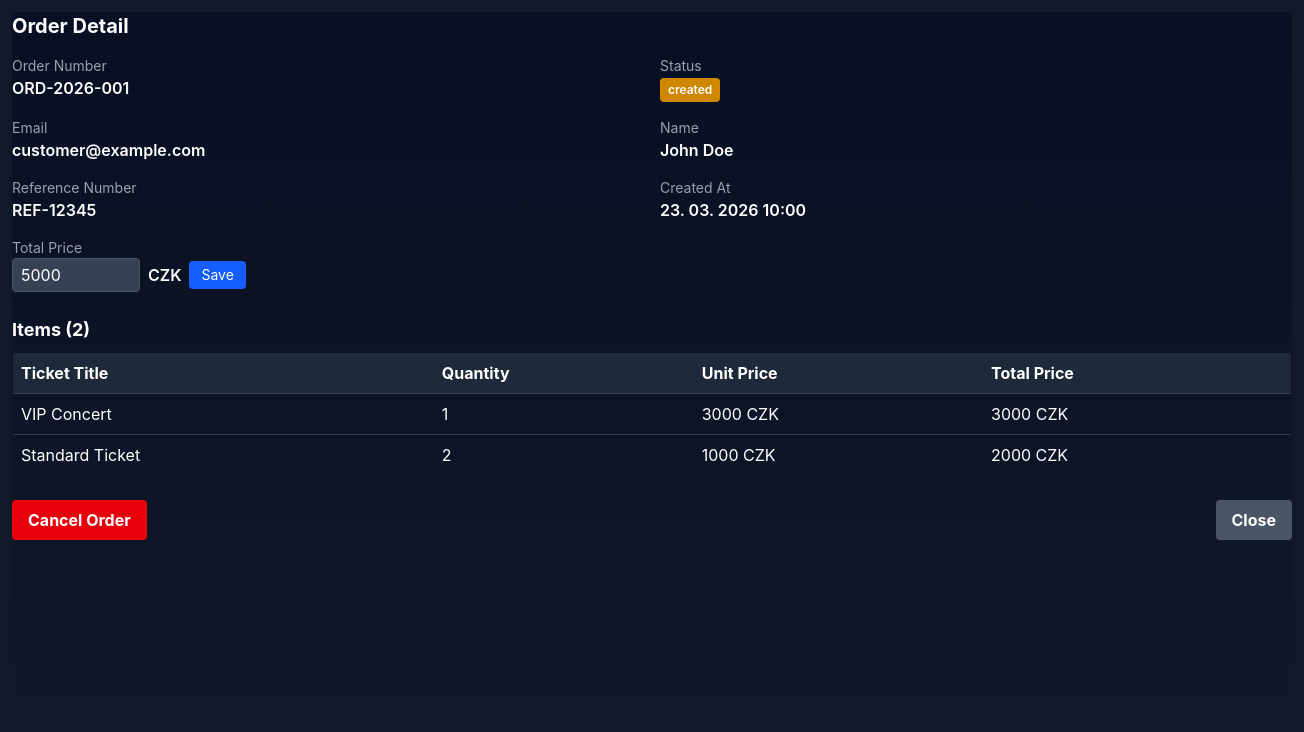
Test case: OrderDetail › displays error message when cancelOrder fails
Click the button "Cancel Order" at (79, 520), box x1=12 y1=500 x2=147 y2=540
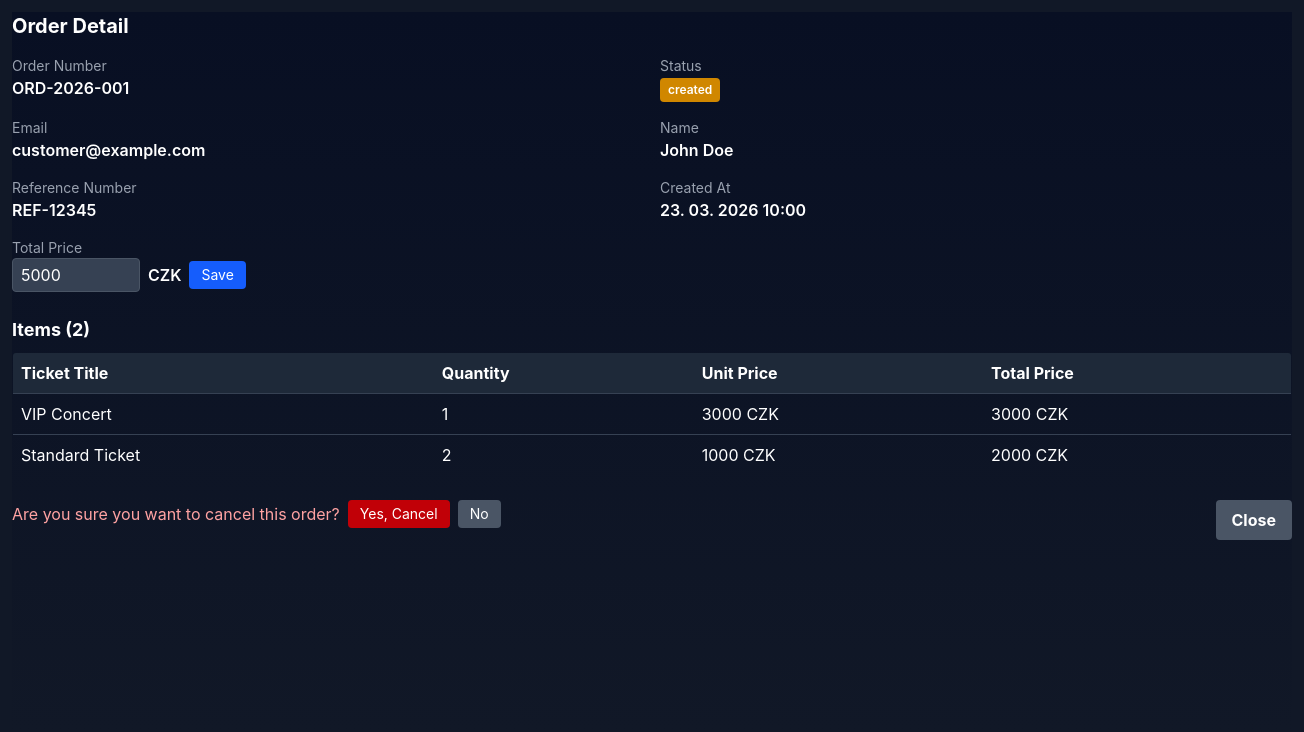
Click the button "Yes, Cancel" at (399, 514), box x1=348 y1=500 x2=450 y2=528
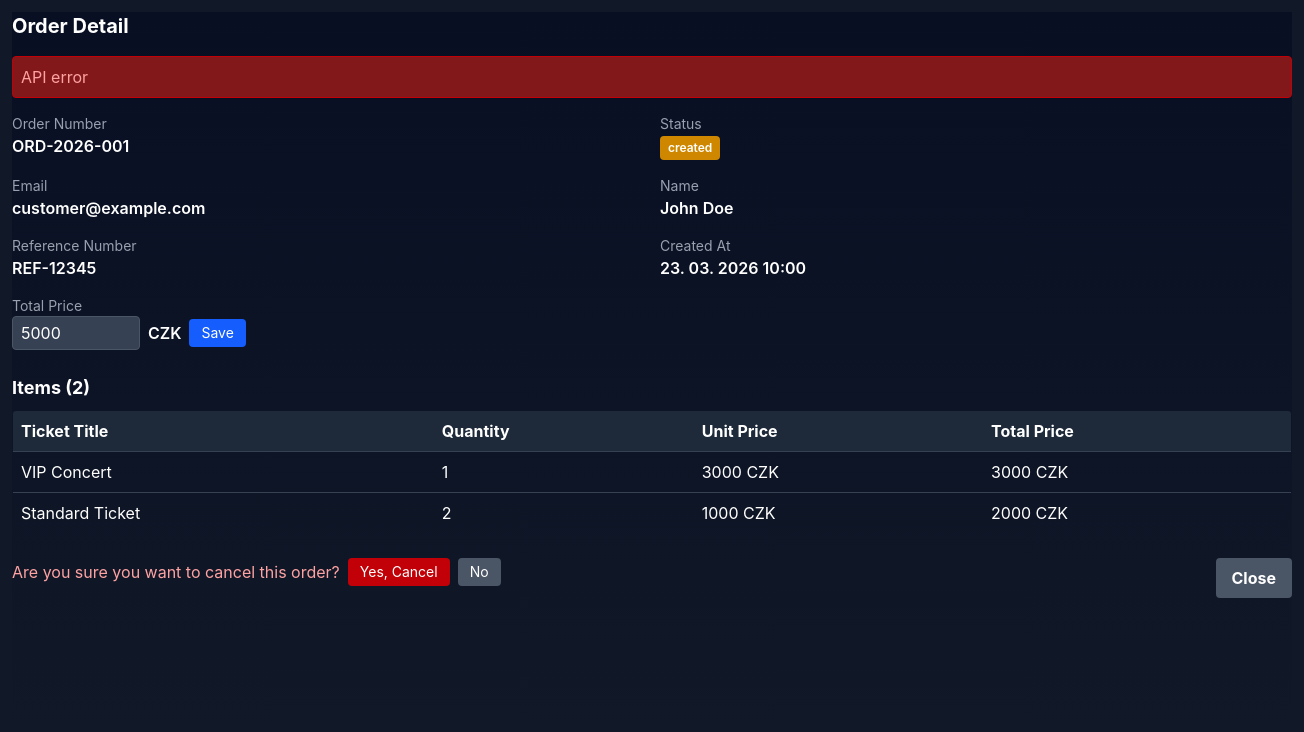
Expected: the text "API error" is shown, x1=12 y1=56 x2=1292 y2=98
